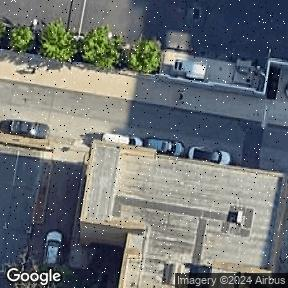vegetation: (0, 13, 164, 77)
